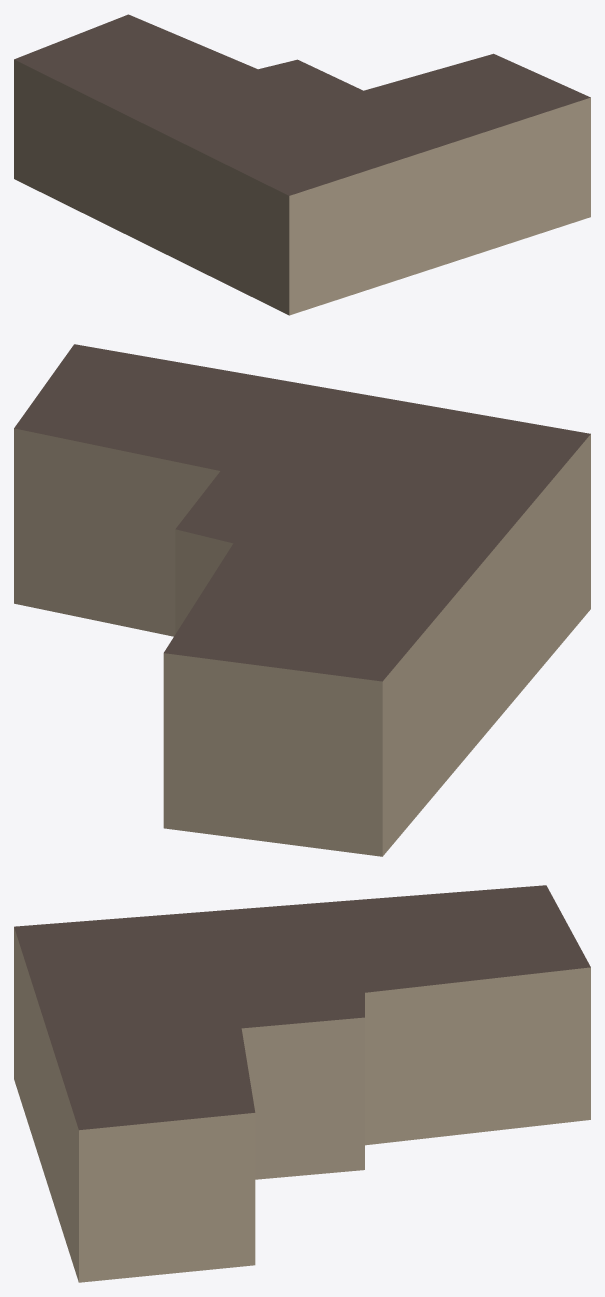
3 views of the same model, one above another, from view 1: azimuth 30°, elevation 25°; view 2: azimuth 150°, elevation 25°; view 3: azimuth 270°, elevation 25° (orthographic). The views are drawn at different scales.
Parts seen in each view (by area): view 1: HP-w1512911307; view 2: HP-w1512911307; view 3: HP-w1512911307.
Part boxes in pixels (x1=…): HP-w1512911307: x1=14, y1=14, x2=590, y2=315; HP-w1512911307: x1=14, y1=344, x2=590, y2=856; HP-w1512911307: x1=14, y1=885, x2=590, y2=1282.
Size of the model in its own units: 31.01 by 9 by 30.86.
